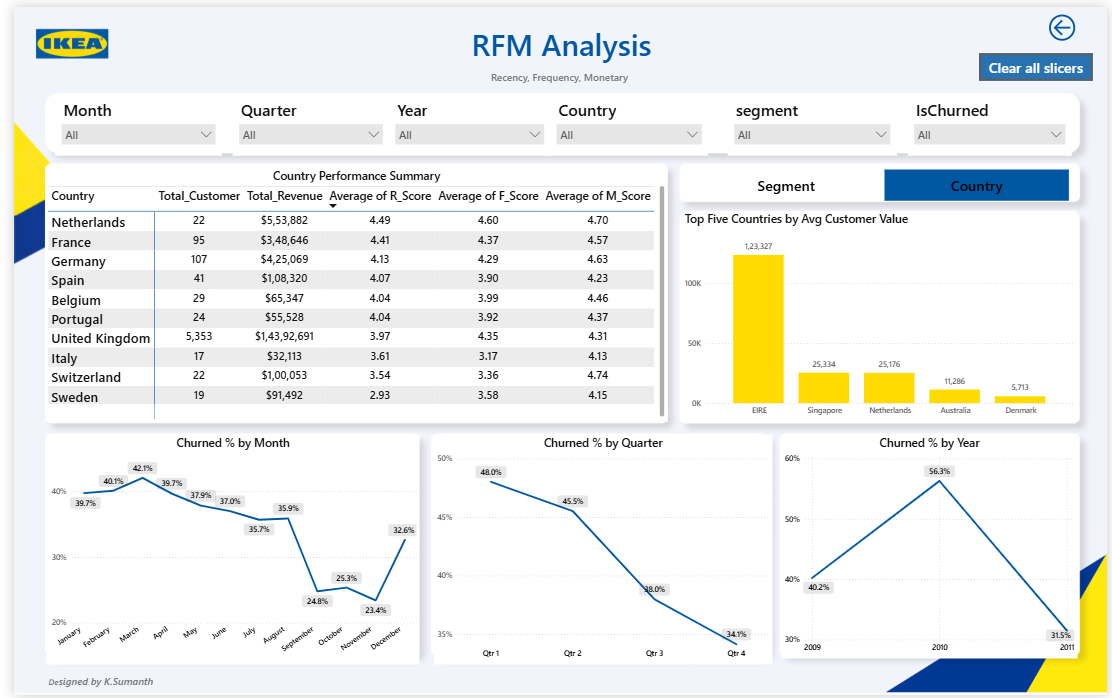

The dashboard page shown, as its layout file describes it:
{"tool":"powerbi","page":{"name":"RFM Analysis","canvas":[1750,1100],"ordinal":2},"visuals":[{"type":"slicer","fields":{"Values":["Sheet1.InvoiceDate.Variation.Date Hierarchy.Month"]},"box":[66,142,266,96],"z":0},{"type":"columnChart","title":"Top Five Countries by Avg Customer Value","fields":{"Category":["Sheet1.Country"],"Y":["Sheet1.Avg Customer Value"]},"box":[1068,326,632,338],"z":0,"group":"g2"},{"type":"lineChart","fields":{"Category":["Sheet1.InvoiceDate.Variation.Date Hierarchy.Year"],"Y":["Sheet1.Churned %"]},"box":[1228.3,684.7,473.7,358.3],"z":0,"group":"g1"},{"type":"slicer","fields":{"Values":["Sheet1.InvoiceDate.Variation.Date Hierarchy.Quarter"]},"box":[350,142,250,96],"z":1000},{"type":"pivotTable","title":"Country Performance Summary","fields":{"Rows":["Sheet1.Country"],"Values":["Sheet1.Total_Customer","Sheet1.Total_Revenue","Avg(Sheet1.R_Score)","Avg(Sheet1.F_Score)","Avg(Sheet1.M_Score)"]},"box":[50,256,996,408],"z":1000,"group":"g2"},{"type":"lineChart","fields":{"Category":["Sheet1.InvoiceDate.Variation.Date Hierarchy.Month"],"Y":["Sheet1.Churned %"]},"box":[52,684,597.1,368.3],"z":1000,"group":"g1"},{"type":"slicer","fields":{"Values":["Sheet1.InvoiceDate.Variation.Date Hierarchy.Year"]},"box":[600,142,258,96],"z":2000},{"type":"lineChart","fields":{"Category":["Sheet1.InvoiceDate.Variation.Date Hierarchy.Quarter"],"Y":["Sheet1.Churned %"]},"box":[673,684,541.4,368.3],"z":2000,"group":"g1"},{"type":"slicer","fields":{"Values":["Sheet1.Country"]},"box":[858,142,252,96],"z":3000},{"type":"slicer","fields":{"Values":["Sheet1.segment"]},"box":[1142,142,270,96],"z":4000},{"type":"slicer","fields":{"Values":["Sheet1.IsChurned"]},"box":[1430,142,262,96],"z":5000},{"type":"group","id":"g1","title":"Customer","box":[52,684,1650,368],"z":6000},{"type":"bookmarkNavigator","box":[1088,260,600,50],"z":8000},{"type":"image","box":[18,0,150,118],"z":9000},{"type":"textbox","box":[575,22,600,142],"z":10000},{"type":"actionButton","box":[1650,6,100,54],"z":11000},{"type":"actionButton","box":[1544,74,182,44],"z":12000},{"type":"textbox","box":[50,1062,550,38],"z":13000},{"type":"textbox","box":[758,96,418,68],"z":14000},{"type":"group","id":"g2","title":"Country","box":[50,256,1650,408],"z":15000}]}

Visuals, with their boxes in screenshot pixels (x1, y1, x2, y2), scaled from the page's 1750x1100 canvas onto the 1112x698 screenshot:
slicer - Sheet1.InvoiceDate.Variation.Date Hierarchy.Month: left=42, top=90, right=211, bottom=151
"Top Five Countries by Avg Customer Value" columnChart: left=679, top=207, right=1080, bottom=421
lineChart - Sheet1.InvoiceDate.Variation.Date Hierarchy.Year x Sheet1.Churned %: left=780, top=434, right=1081, bottom=662
slicer - Sheet1.InvoiceDate.Variation.Date Hierarchy.Quarter: left=222, top=90, right=381, bottom=151
"Country Performance Summary" pivotTable: left=32, top=162, right=665, bottom=421
lineChart - Sheet1.InvoiceDate.Variation.Date Hierarchy.Month x Sheet1.Churned %: left=33, top=434, right=412, bottom=668
slicer - Sheet1.InvoiceDate.Variation.Date Hierarchy.Year: left=381, top=90, right=545, bottom=151
lineChart - Sheet1.InvoiceDate.Variation.Date Hierarchy.Quarter x Sheet1.Churned %: left=428, top=434, right=772, bottom=668
slicer - Sheet1.Country: left=545, top=90, right=705, bottom=151
slicer - Sheet1.segment: left=726, top=90, right=897, bottom=151
slicer - Sheet1.IsChurned: left=909, top=90, right=1075, bottom=151
"Customer" group: left=33, top=434, right=1081, bottom=668
bookmarkNavigator: left=691, top=165, right=1073, bottom=197
image: left=11, top=0, right=107, bottom=75
textbox: left=365, top=14, right=747, bottom=104
actionButton: left=1048, top=4, right=1111, bottom=38
actionButton: left=981, top=47, right=1097, bottom=75
textbox: left=32, top=674, right=381, bottom=697
textbox: left=482, top=61, right=747, bottom=104
"Country" group: left=32, top=162, right=1080, bottom=421
